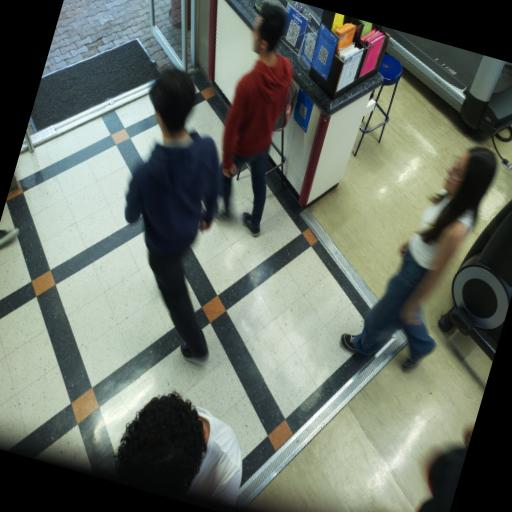person: (341, 147, 496, 369), (125, 70, 219, 364), (222, 5, 292, 236), (115, 393, 242, 505), (419, 429, 472, 511), (0, 228, 19, 247)
